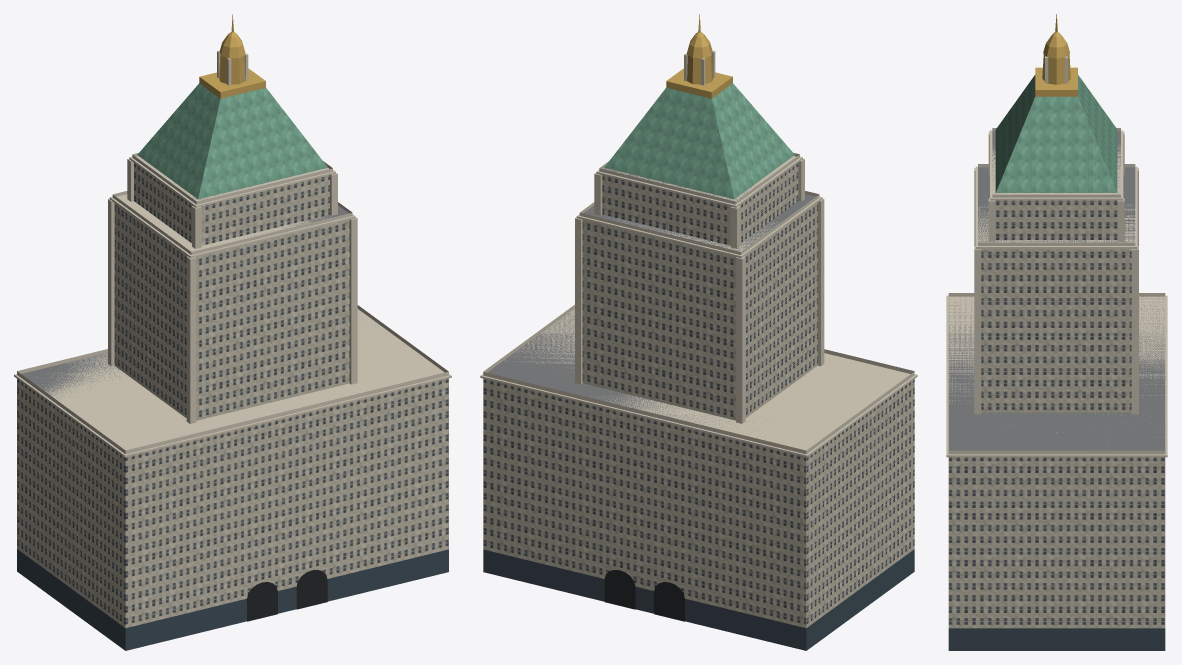
Rendered from helmsley_building.glb.
3 renders of one model, left to right at view 1: azimuth 30°, elevation 25°; view 2: azimuth 150°, elevation 25°; view 3: azimuth 270°, elevation 25°, orthographic.
Visible parts, largest first — view 1: helmsley_building; view 2: helmsley_building; view 3: helmsley_building.
Boxes of the visible parts, x1,y1,x2,y2 form: helmsley_building: (14, 14, 451, 650); helmsley_building: (480, 14, 917, 650); helmsley_building: (946, 14, 1167, 650).
Size of the model in its own units: 105 by 172 by 61.8.
Materials: 3 (3 with a texture image).
